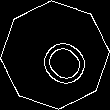O_NW: (22, 22, 88, 88)
